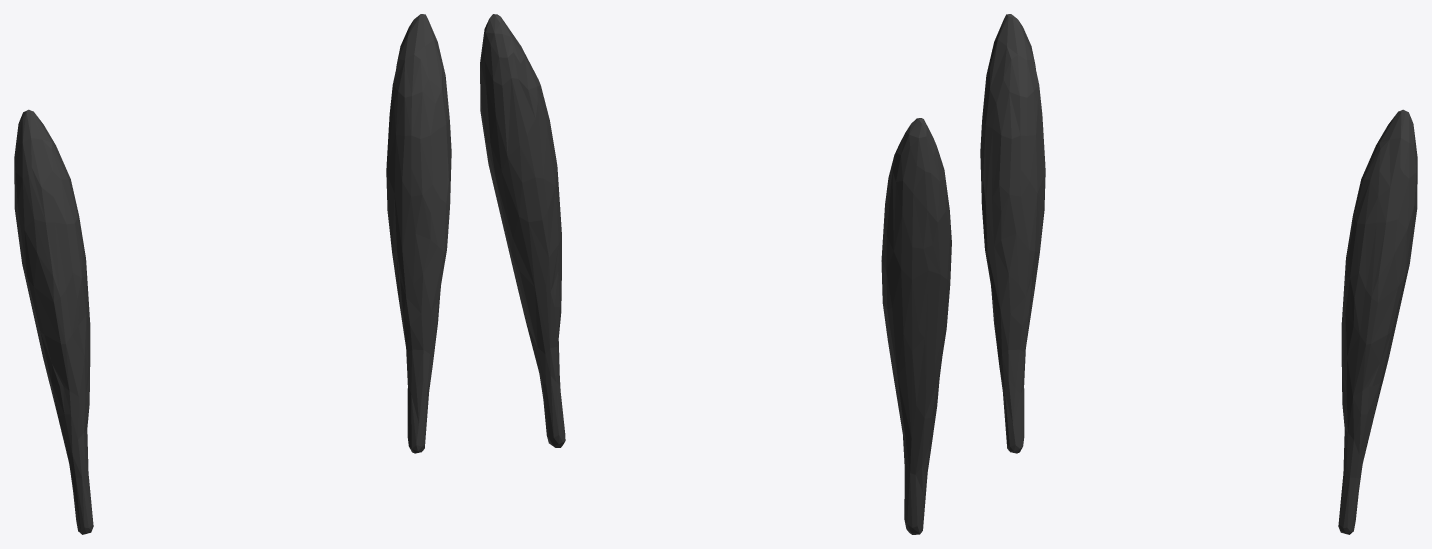
File: m_digastricus_caud.glb
3 renders of one model, left to right at view 1: azimuth 30°, elevation 25°; view 2: azimuth 150°, elevation 25°; view 3: azimuth 330°, elevation 25°, orthographic. The views are drawn at different scales.
Parts seen in each view (by area): view 1: m_digastricus_caud; view 2: m_digastricus_caud; view 3: m_digastricus_caud.
Boxes of the visible parts, <box> form: m_digastricus_caud: <box>14,14,451,534</box>; m_digastricus_caud: <box>480,14,951,534</box>; m_digastricus_caud: <box>980,14,1417,534</box>.
Size of the model in its own units: 0.00186 by 0.0017 by 0.000292.
1 material, 1 textured.
